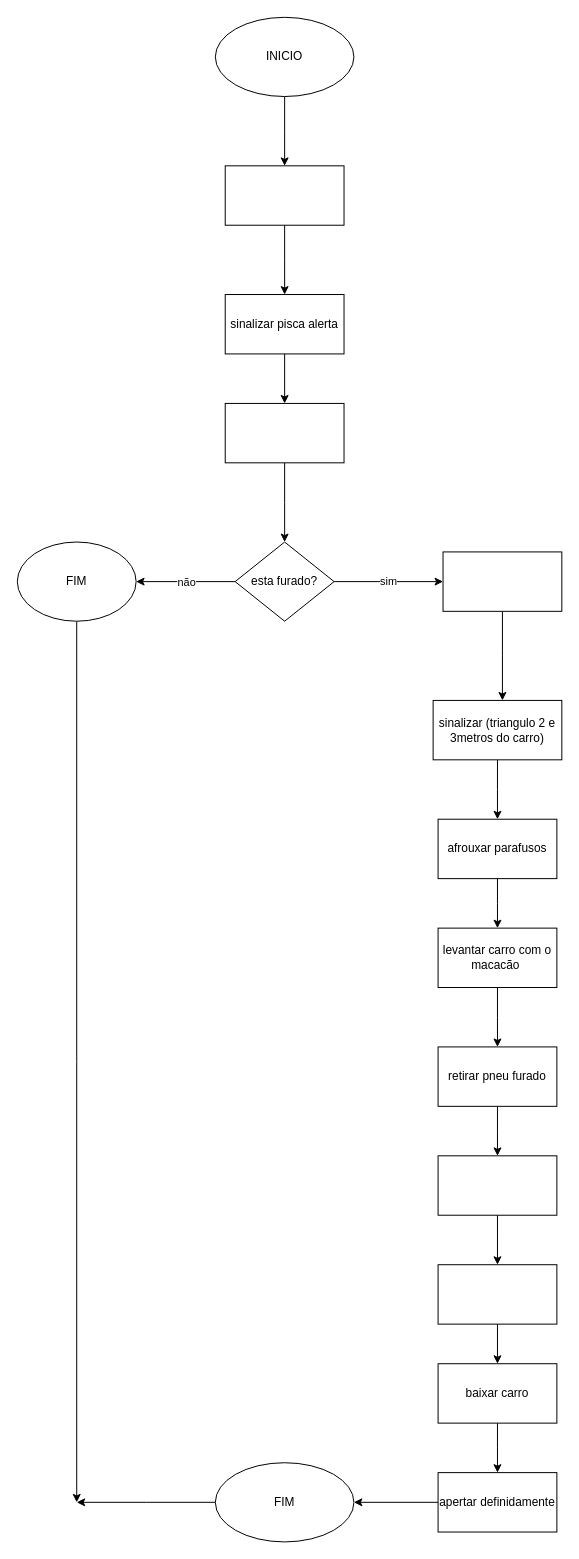
Some shapes in this 579 by 1559 pixel diagram are drawn without their labels. The shapes that lost their labels are listed below. From the top down, each one's centre as x and y in pixels, then its label:
(284,195): parar em um local seguro
(284,432): verificar se o pneu esta furado
(502,581): pegar ferramentas no porta malas e o triangulo
(497,1185): colocar estepe
(497,1294): apertar parcialmente
